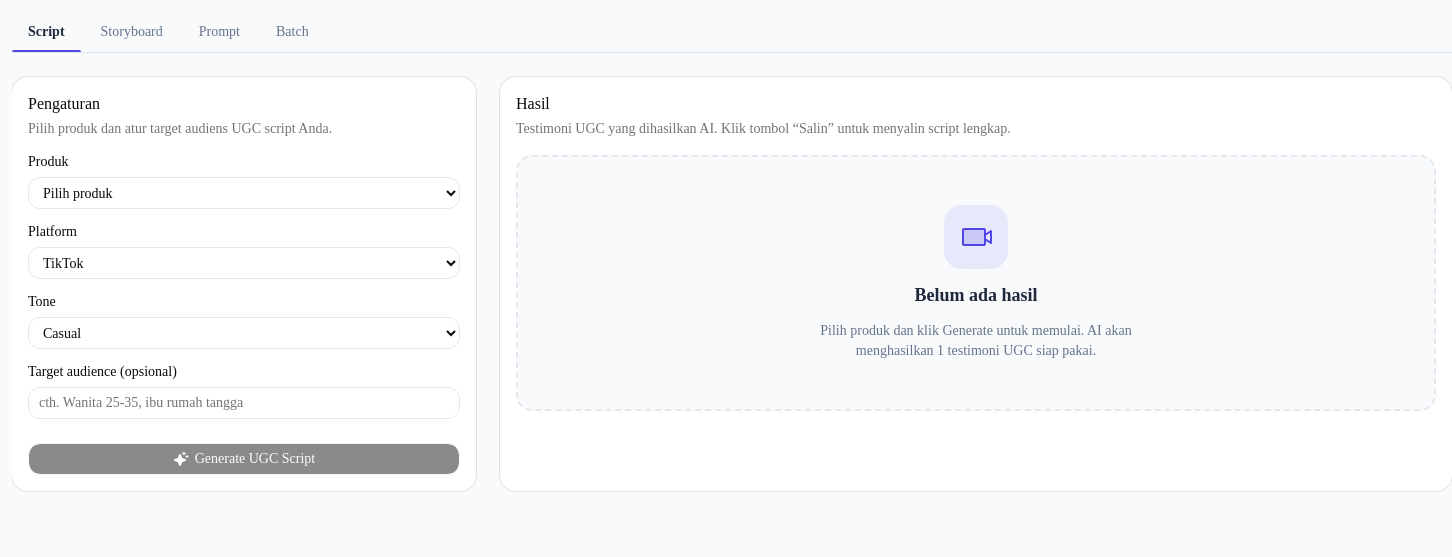
Test case: UgcGenerator › switches to the Batch tab and shows product multi-select checkboxes (min 2, max 5)
Click the tab "Batch". click: (292, 32)
box: [260,12,325,52]
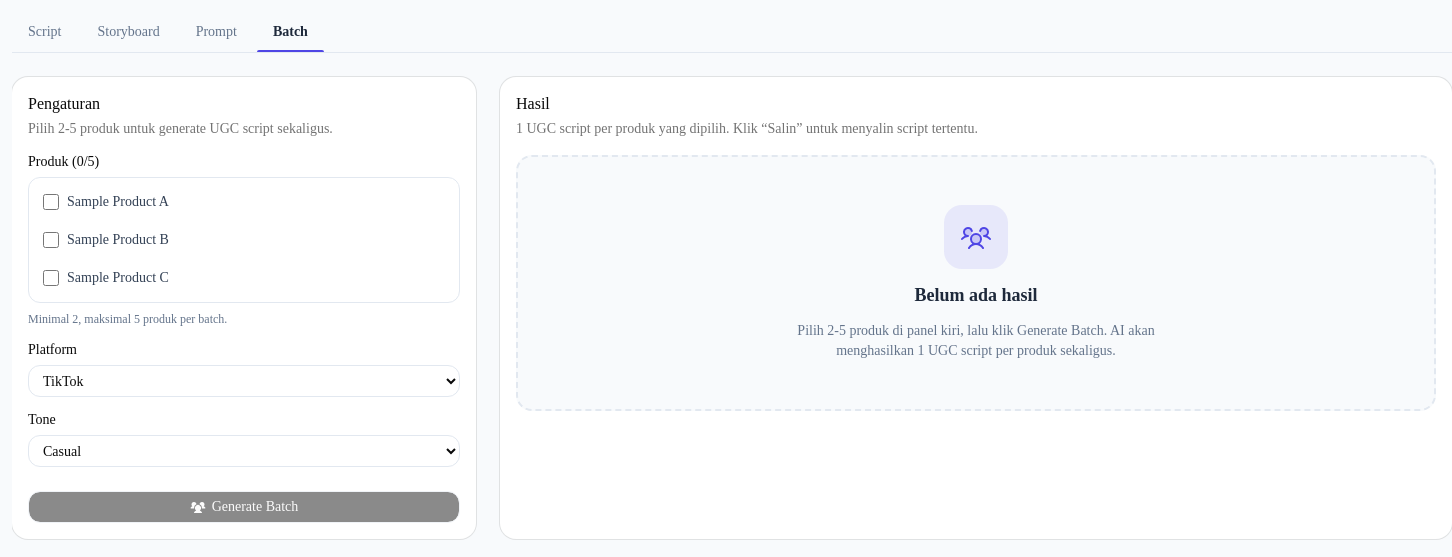
Now the checkbox labelled "Sample Product A" is shown, box [43,194,59,210]
Now the checkbox labelled "Sample Product B" is shown, box [43,232,59,248]
Now the checkbox labelled "Sample Product C" is shown, box [43,270,59,286]
